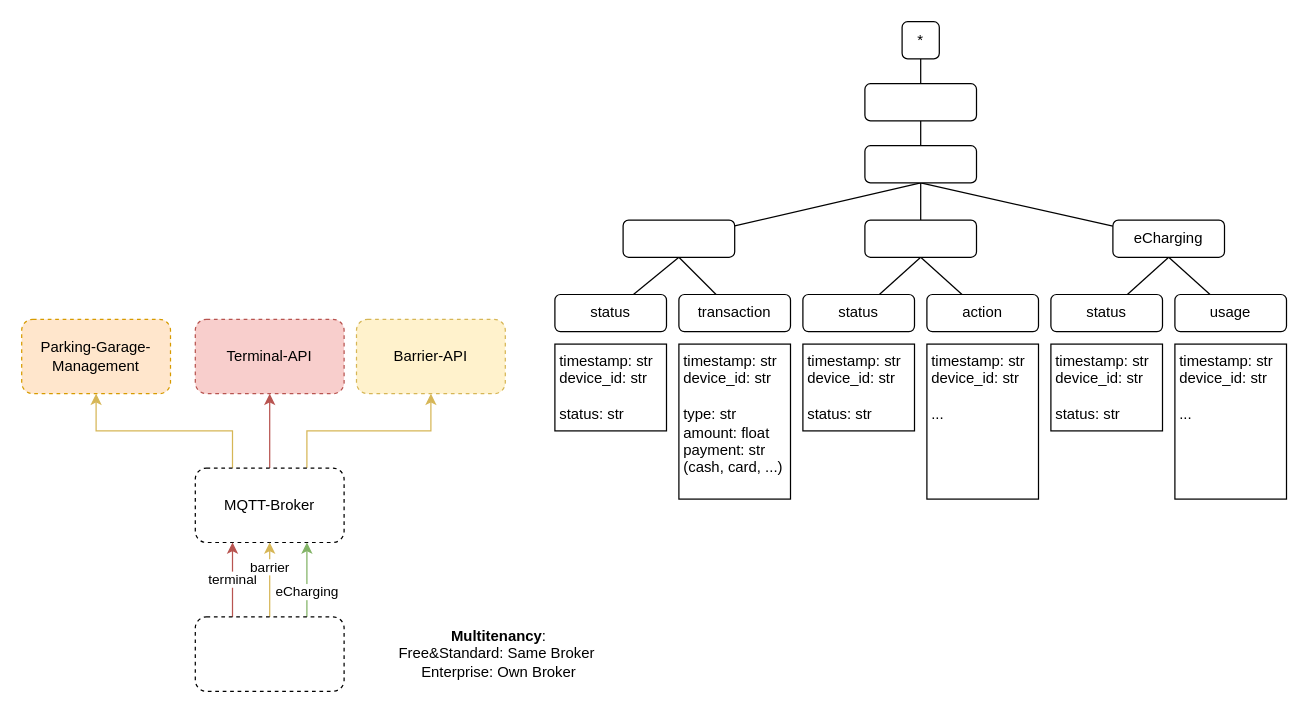
Some shapes in this 1308 by 713 pixel diagram are drawn without their labels. The centre of each missing label's shape, as x and y in pixels:
"barriers" goes at point (920, 238).
"parkhouse_id" goes at point (920, 163).
"parking garage simulator" goes at point (269, 653).
"tenant_id" goes at point (920, 101).
"terminals" goes at point (678, 238).
